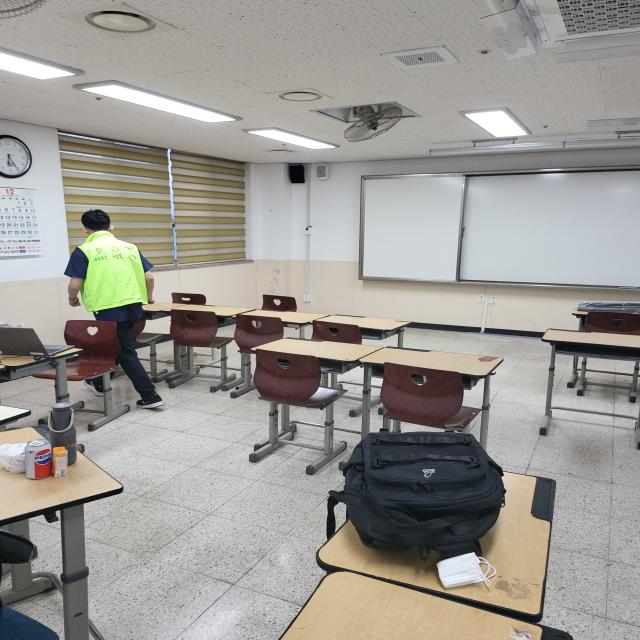weston_spy: (69, 222, 154, 320)
